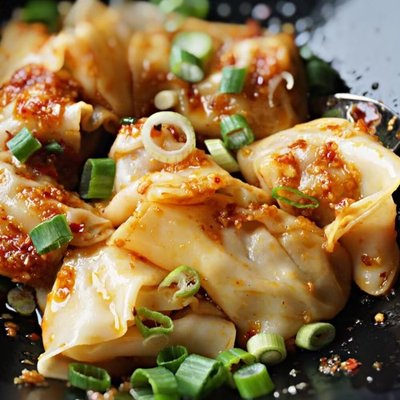sandwich: (1, 0, 398, 399)
